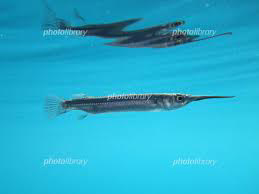sayori: (41, 81, 239, 115)
